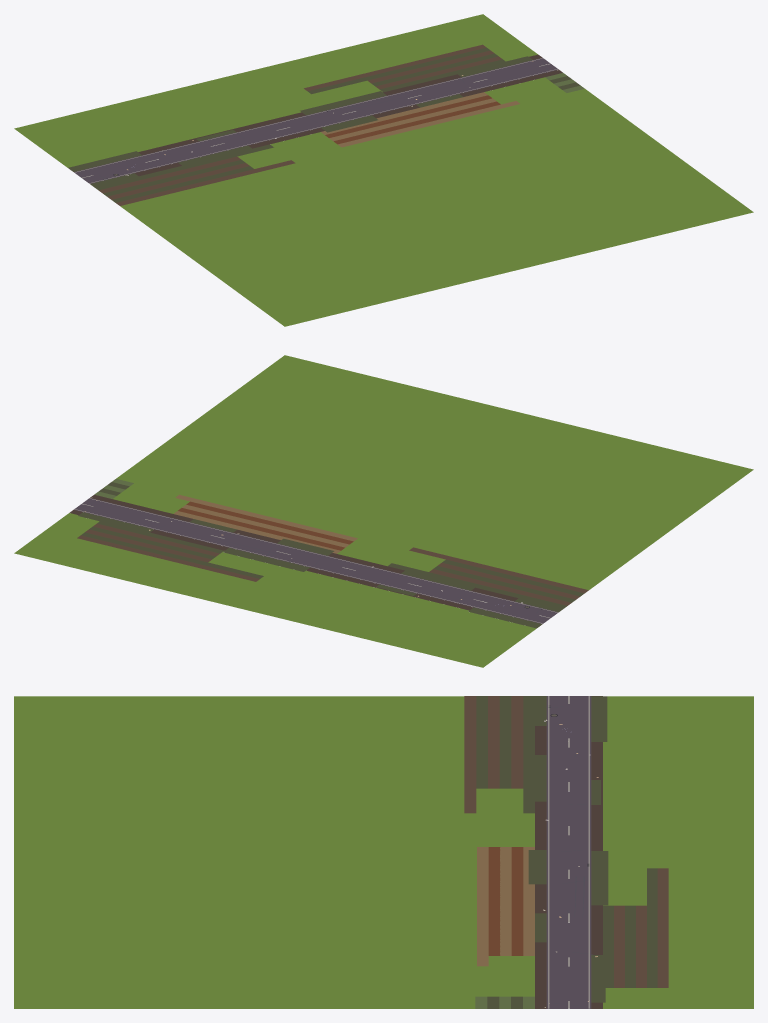
Rendered from cure-15-1.glb.
The picture shows the model from 3 angles, top to bottom: view 1: azimuth 30°, elevation 25°; view 2: azimuth 150°, elevation 25°; view 3: azimuth 270°, elevation 25°; orthographic projection. The views are drawn at different scales.
Visible parts, largest first — view 1: cure-15-1; view 2: cure-15-1; view 3: cure-15-1.
Part boxes in pixels (x1,y1,x2,y2): cure-15-1: (14,14,753,326); cure-15-1: (14,355,753,667); cure-15-1: (14,696,753,1008).
Bounding box in the file's own units: 100 × 0.017 × 100.
